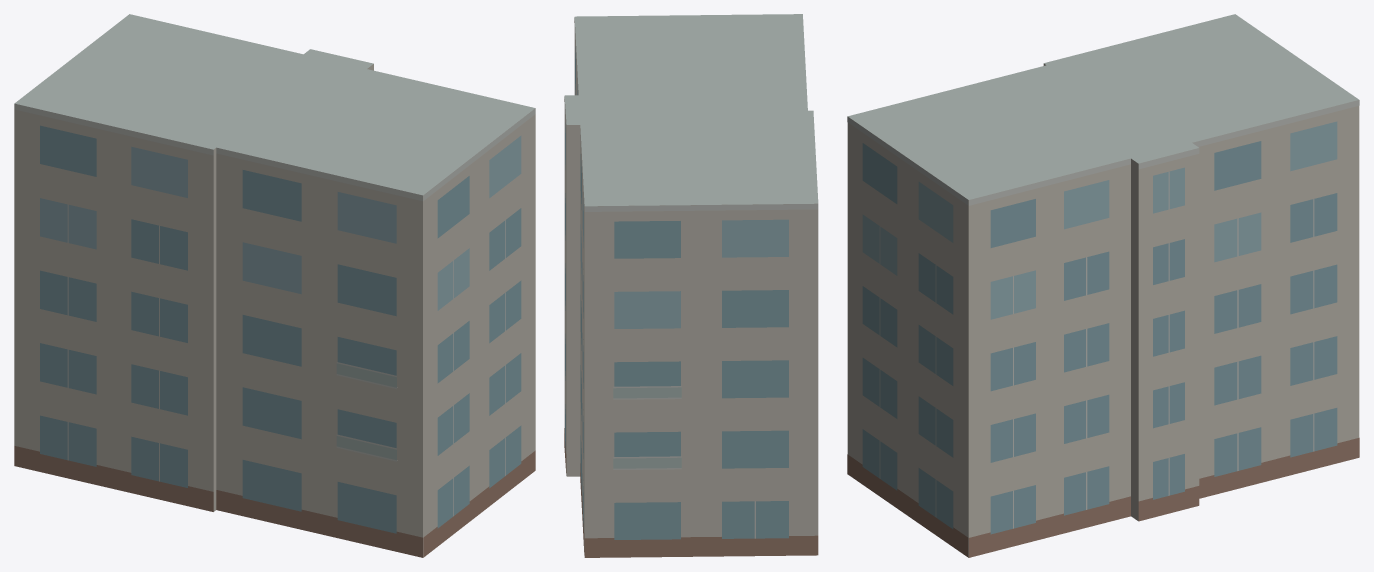
Rendered from survey-upis-32762779.glb.
3 views of the same model, side by side, from view 1: azimuth 30°, elevation 25°; view 2: azimuth 150°, elevation 25°; view 3: azimuth 270°, elevation 25° (orthographic). The views are drawn at different scales.
Visible parts, largest first — view 1: survey-upis-32762779.tmp; view 2: survey-upis-32762779.tmp; view 3: survey-upis-32762779.tmp.
Boxes of the visible parts, x1,y1,x2,y2 form: survey-upis-32762779.tmp: (14, 14, 535, 557); survey-upis-32762779.tmp: (564, 14, 818, 557); survey-upis-32762779.tmp: (847, 14, 1359, 557).
Size of the model in its own units: 16.68 by 14.95 by 19.4.
